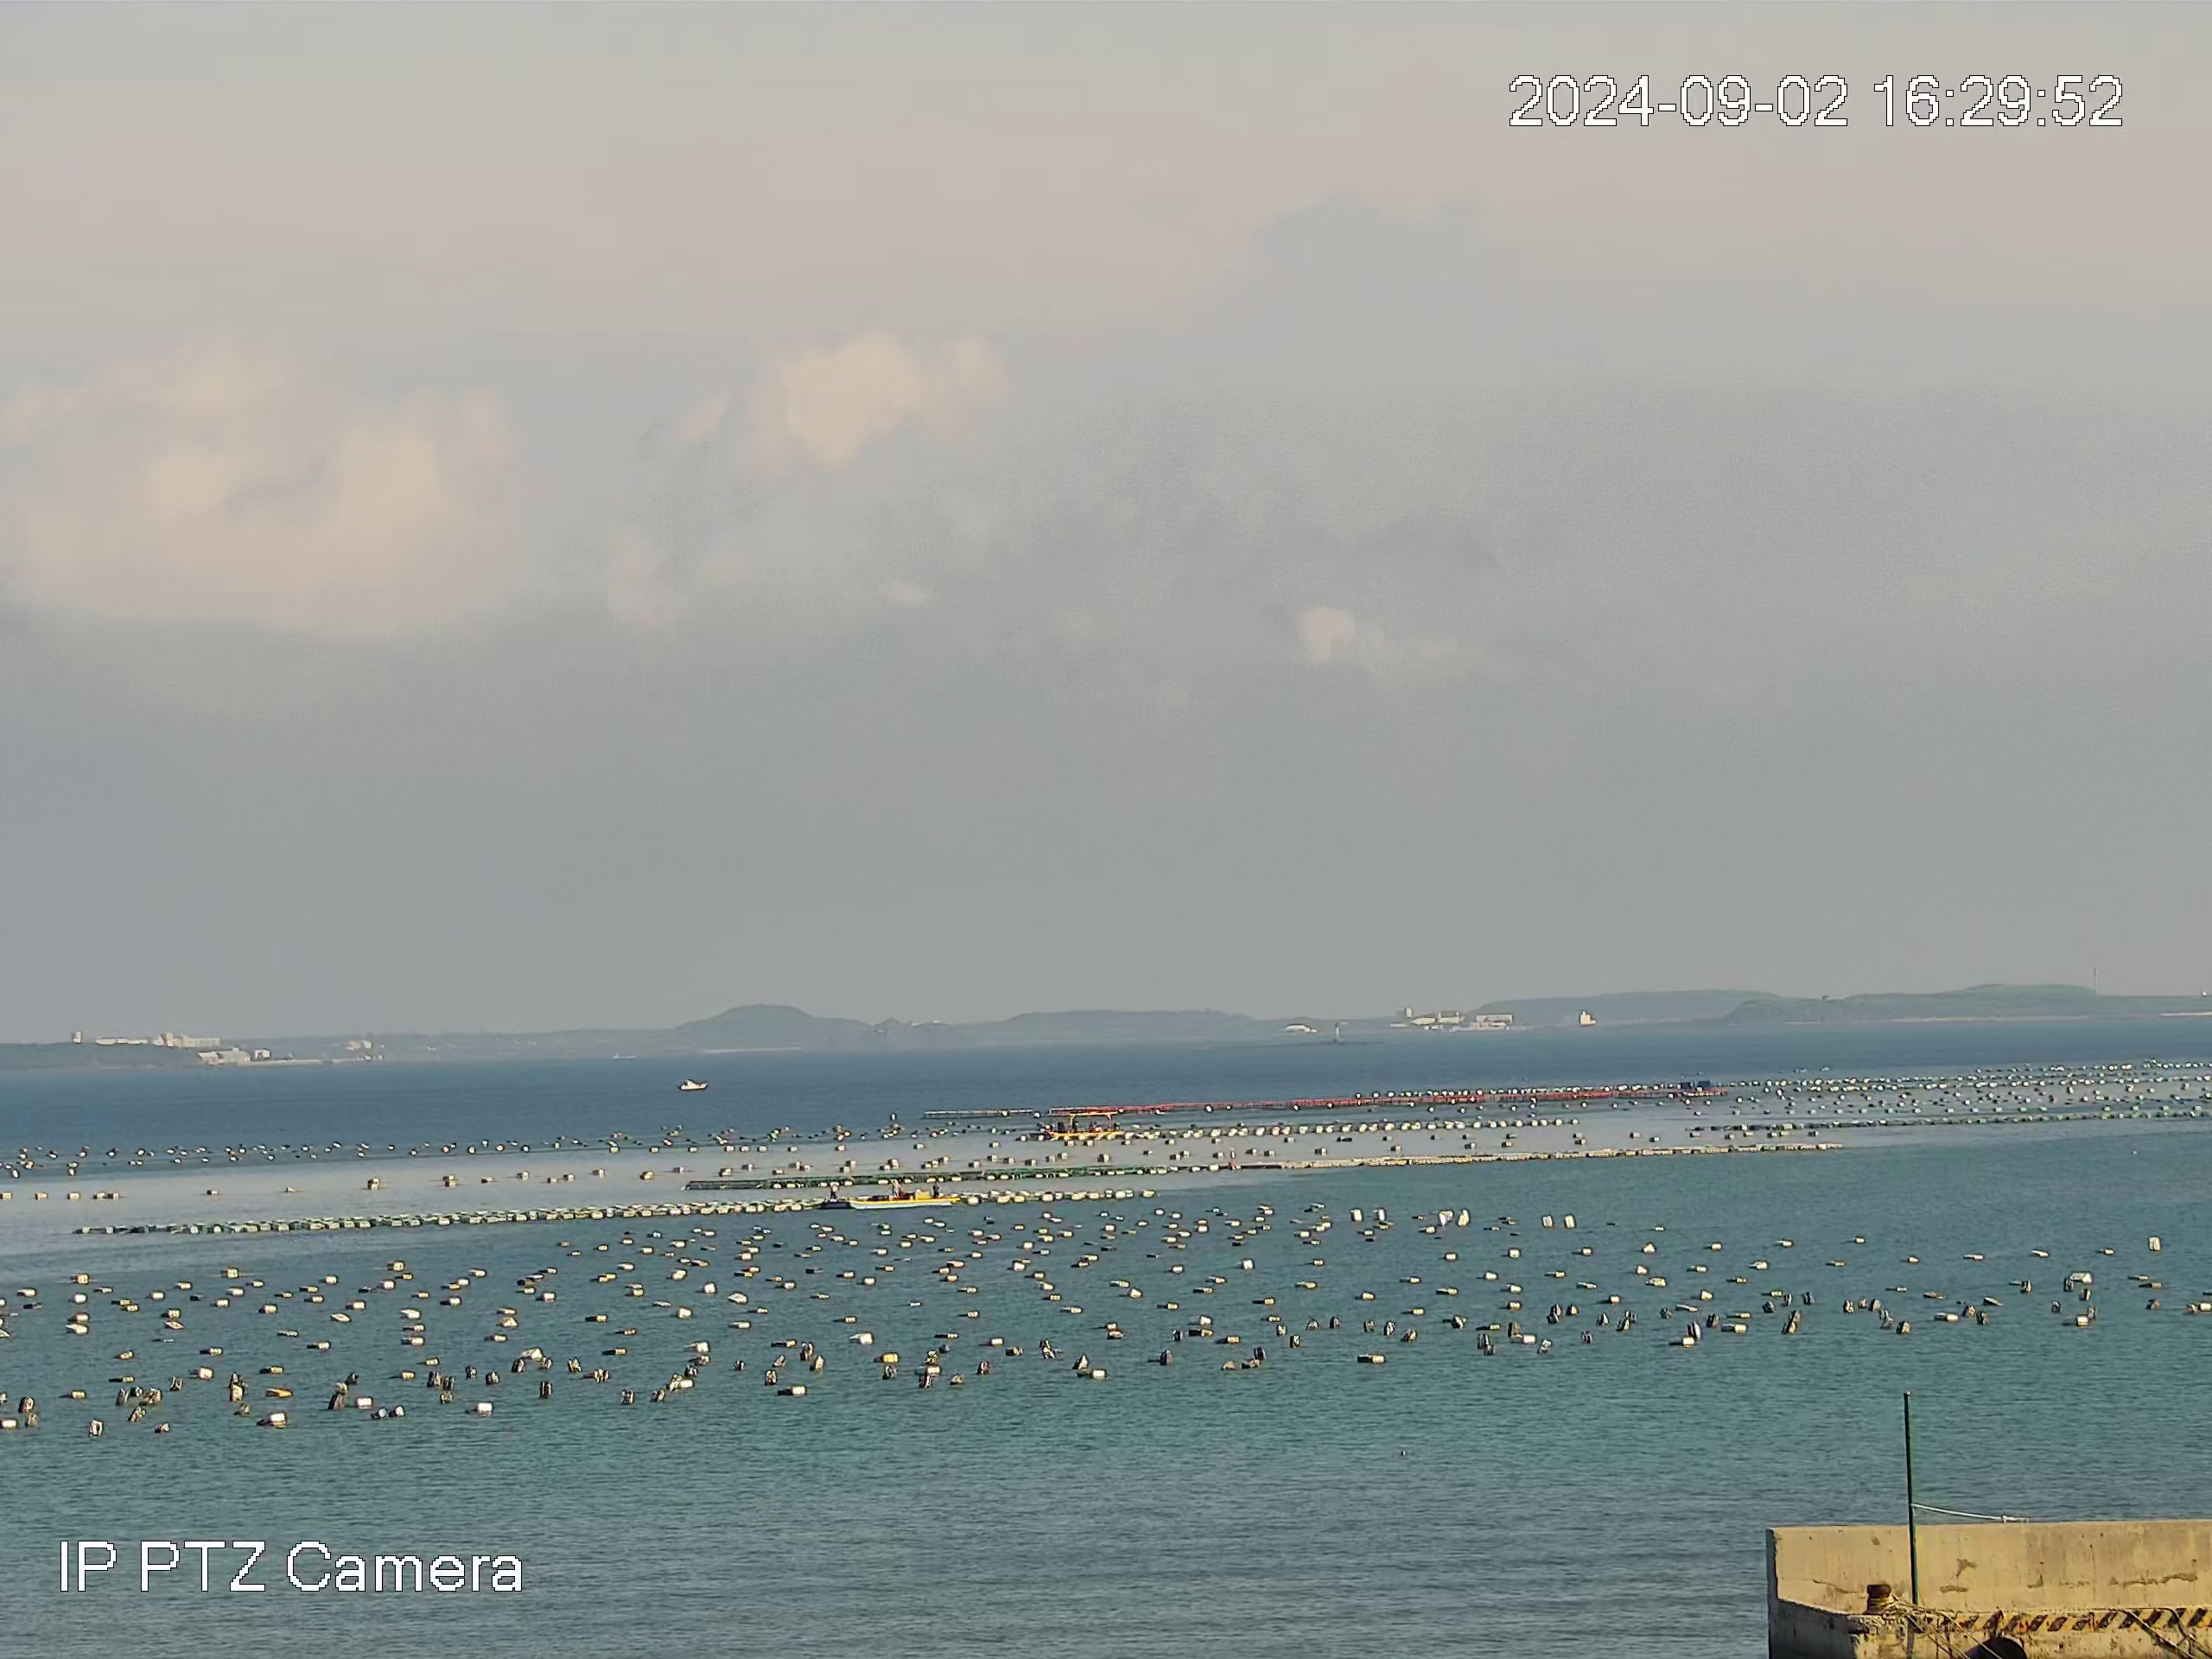boat: (845, 1176, 961, 1211), (1045, 1110, 1125, 1140), (676, 1077, 709, 1093)
